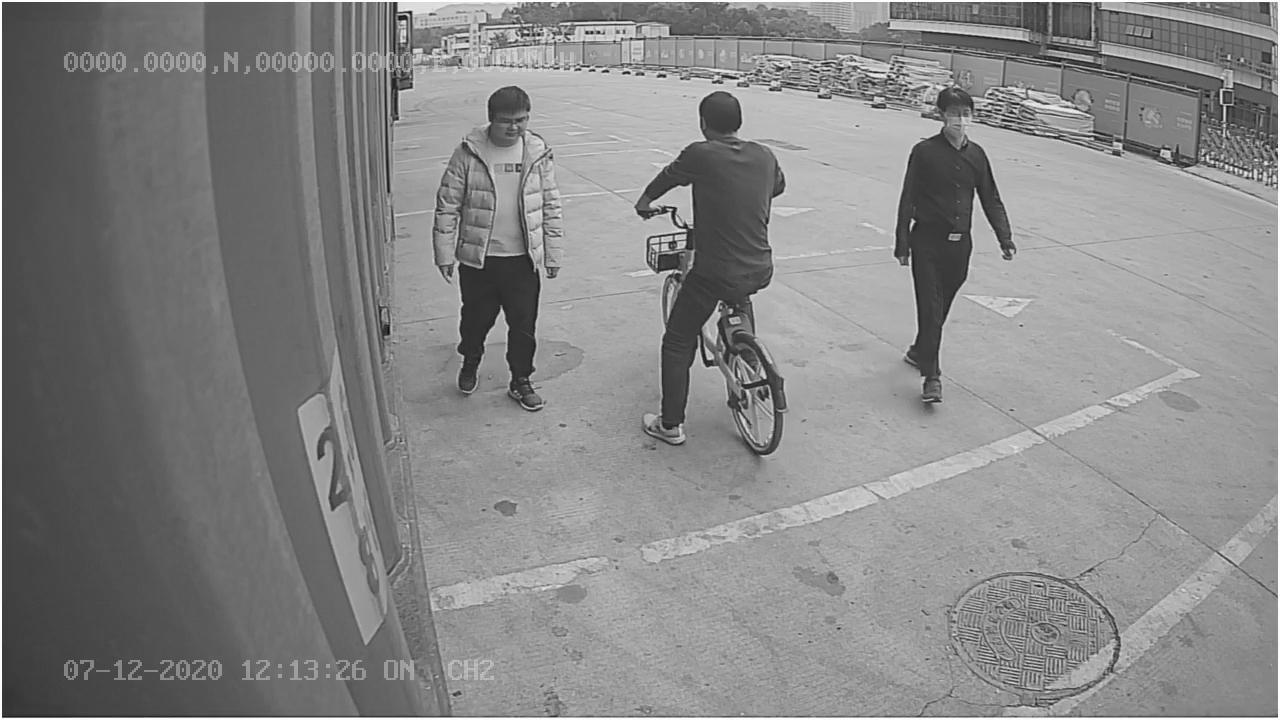person: (431, 80, 569, 410), (889, 84, 1021, 402)
